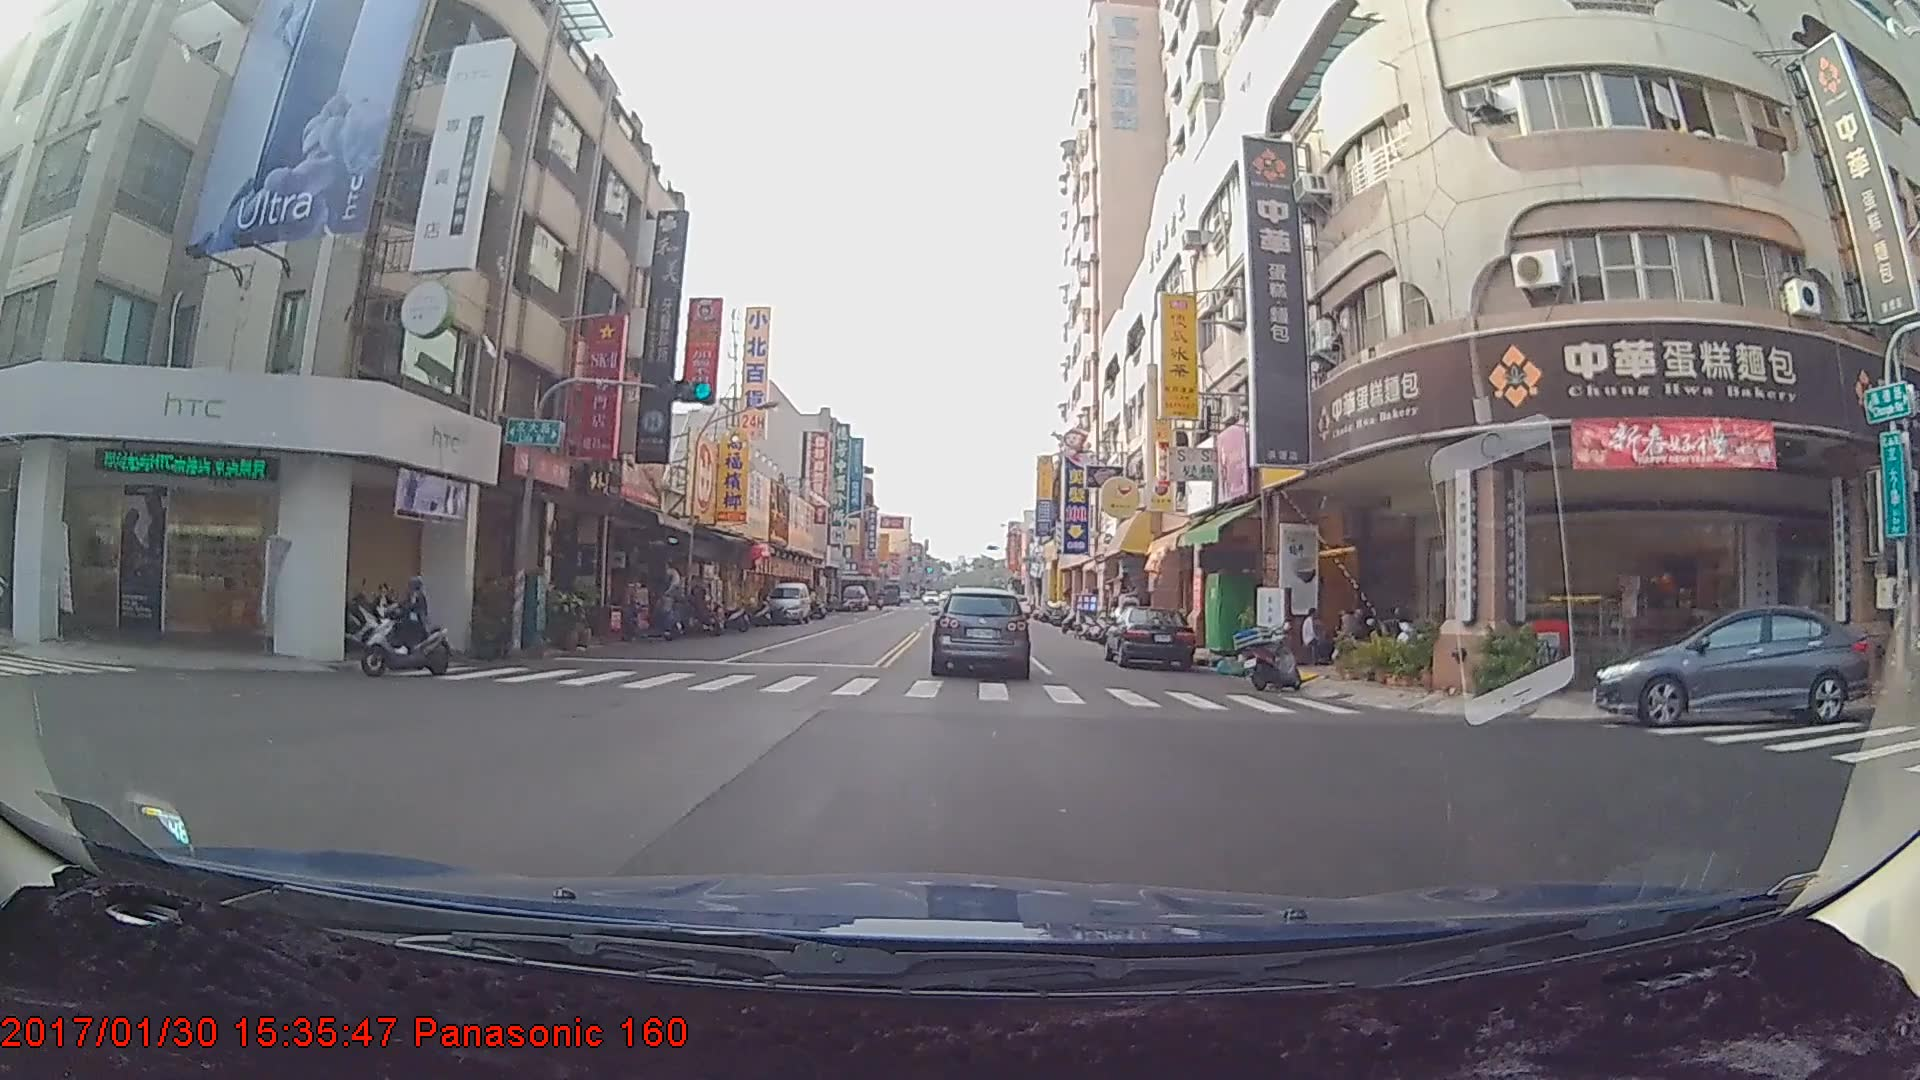pedestrian: (1297, 601, 1328, 661), (1334, 601, 1362, 661)
rider: (354, 568, 451, 678)
vehicle: (1592, 602, 1873, 731), (933, 585, 1030, 679), (1105, 604, 1196, 669), (760, 577, 810, 620), (839, 582, 868, 611)
